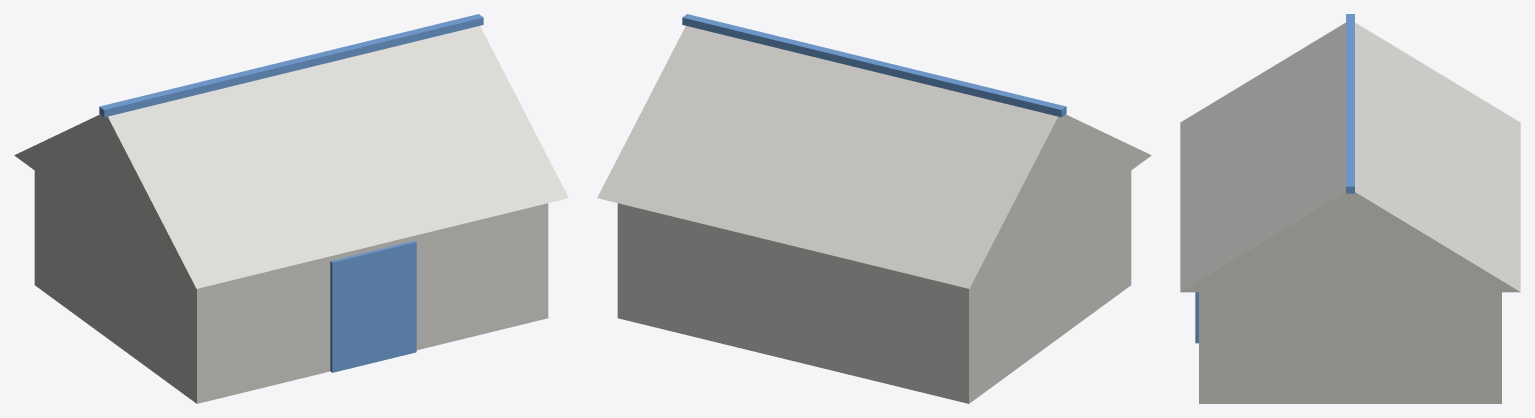
3 renders of one model, left to right at view 1: azimuth 30°, elevation 25°; view 2: azimuth 150°, elevation 25°; view 3: azimuth 270°, elevation 25°, orthographic. The views are drawn at different scales.
Parts seen in each view (by area): view 1: WB_whiteTent; view 2: WB_whiteTent; view 3: WB_whiteTent.
Boxes of the visible parts, box(x1,y1,x2,y2) form: WB_whiteTent: box(14, 14, 568, 403); WB_whiteTent: box(597, 14, 1151, 403); WB_whiteTent: box(1180, 14, 1520, 403).
Size of the model in its own units: 5.4 by 3.26 by 4.5.
